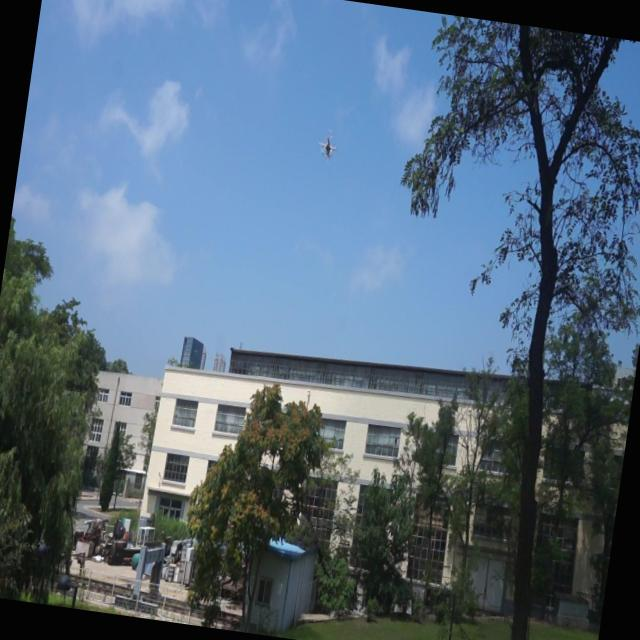drone: (316, 130, 339, 162)
